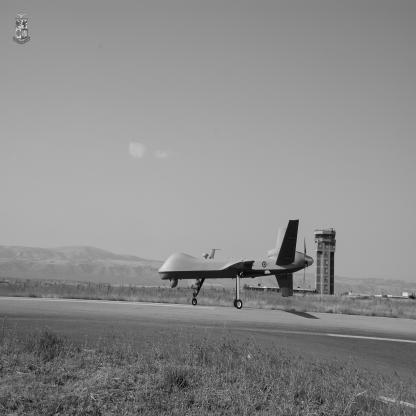MQ9: (150, 220, 315, 310)
